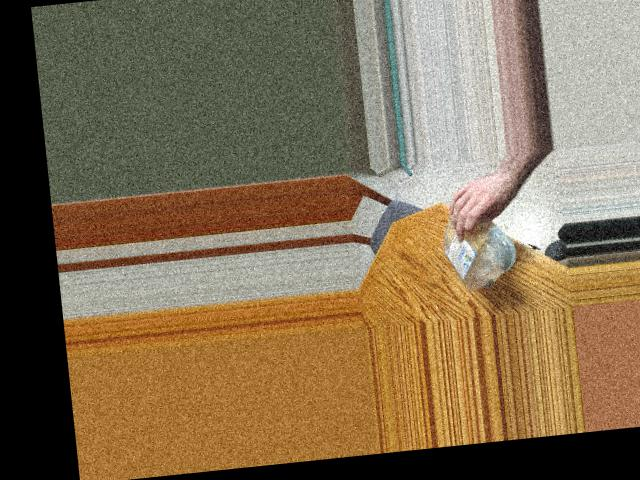cheese: (433, 194, 517, 295)
